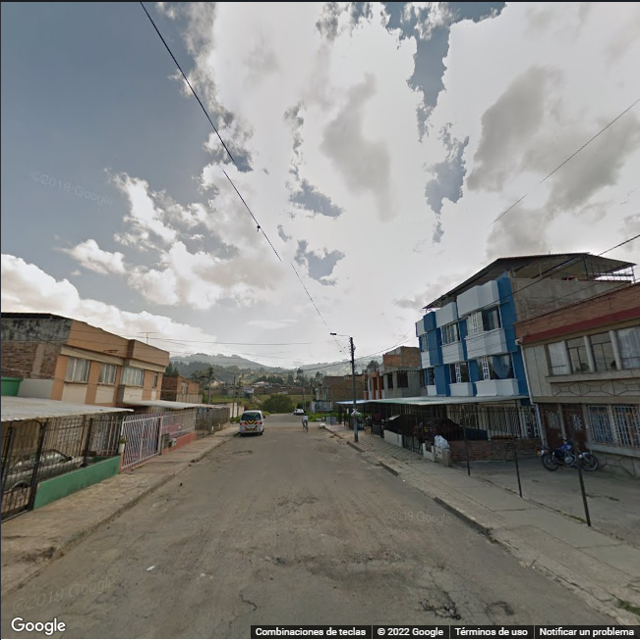D00: (55, 527, 150, 613), (227, 612, 239, 637)
D40: (404, 582, 463, 626), (486, 597, 515, 614)
